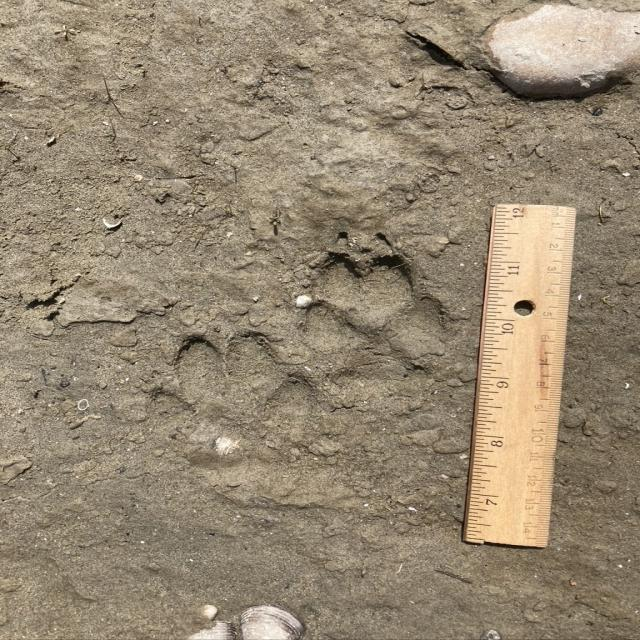canid: (148, 331, 317, 479), (303, 246, 455, 395)
